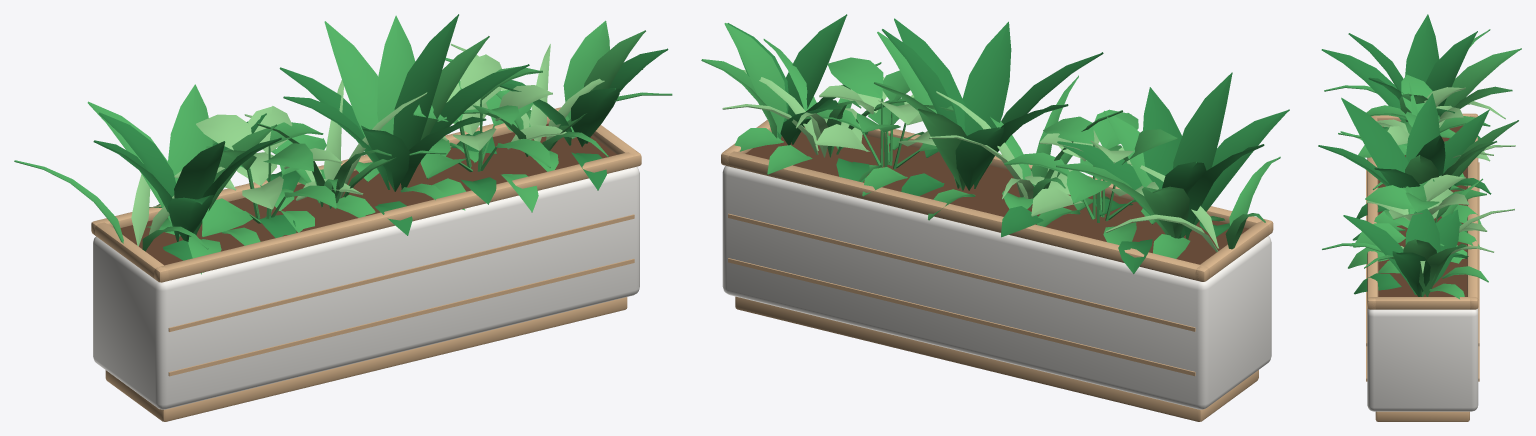
File: planter_box.glb
3 renders of one model, left to right at view 1: azimuth 30°, elevation 25°; view 2: azimuth 150°, elevation 25°; view 3: azimuth 270°, elevation 25°, orthographic. The views are drawn at different scales.
Visible parts, largest first — view 1: planter, leaf, oak, leaf_dark, leaf_light, soil; view 2: planter, leaf, leaf_dark, oak, soil, leaf_light; view 3: leaf_dark, planter, leaf, oak, leaf_light, soil.
Boxes of the visible parts, x1,y1,x2,y2 form: planter: [93, 167, 639, 409]; leaf: [14, 15, 672, 274]; oak: [91, 107, 641, 421]; leaf_dark: [93, 14, 668, 260]; leaf_light: [131, 43, 642, 246]; soil: [120, 123, 616, 265]; planter: [722, 166, 1271, 409]; leaf: [701, 23, 1280, 258]; leaf_dark: [727, 14, 1289, 273]; oak: [721, 120, 1273, 421]; soil: [745, 127, 1248, 264]; leaf_light: [722, 70, 1218, 252]; leaf_dark: [1318, 14, 1491, 296]; planter: [1367, 308, 1478, 411]; leaf: [1322, 29, 1521, 299]; oak: [1366, 113, 1479, 421]; leaf_light: [1366, 87, 1515, 273]; soil: [1378, 125, 1467, 296].
Bounding box in the file's own units: 1.97 × 0.9435 × 0.733.
